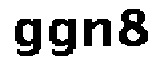8: (118, 5, 151, 48)
g: (45, 16, 78, 60), (12, 14, 44, 58)
n: (81, 17, 115, 53)
